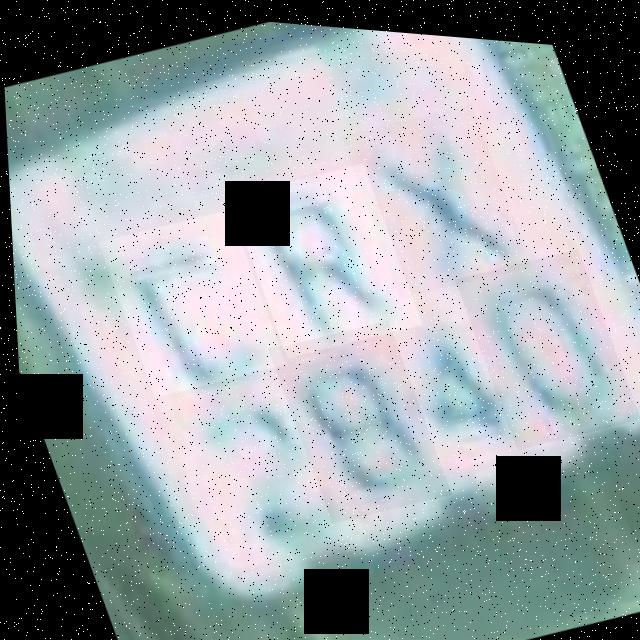0: (450, 231, 639, 450)
2: (155, 353, 366, 588)
4: (364, 276, 542, 485)
8: (263, 306, 449, 528)
C: (94, 198, 285, 405)
R: (225, 149, 421, 362)
X: (338, 87, 531, 301)
